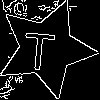T: (21, 23, 57, 71)
